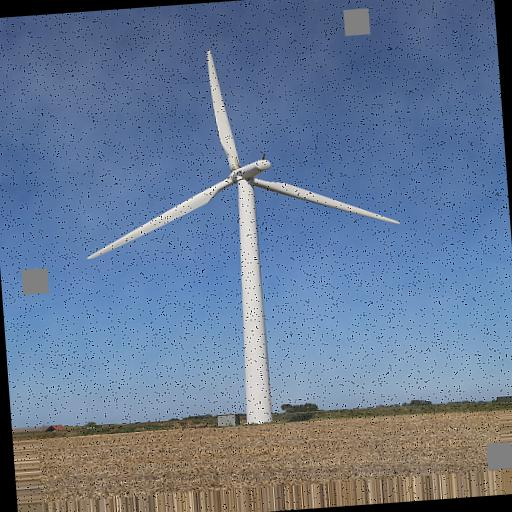wind turbine: (87, 48, 402, 421)
